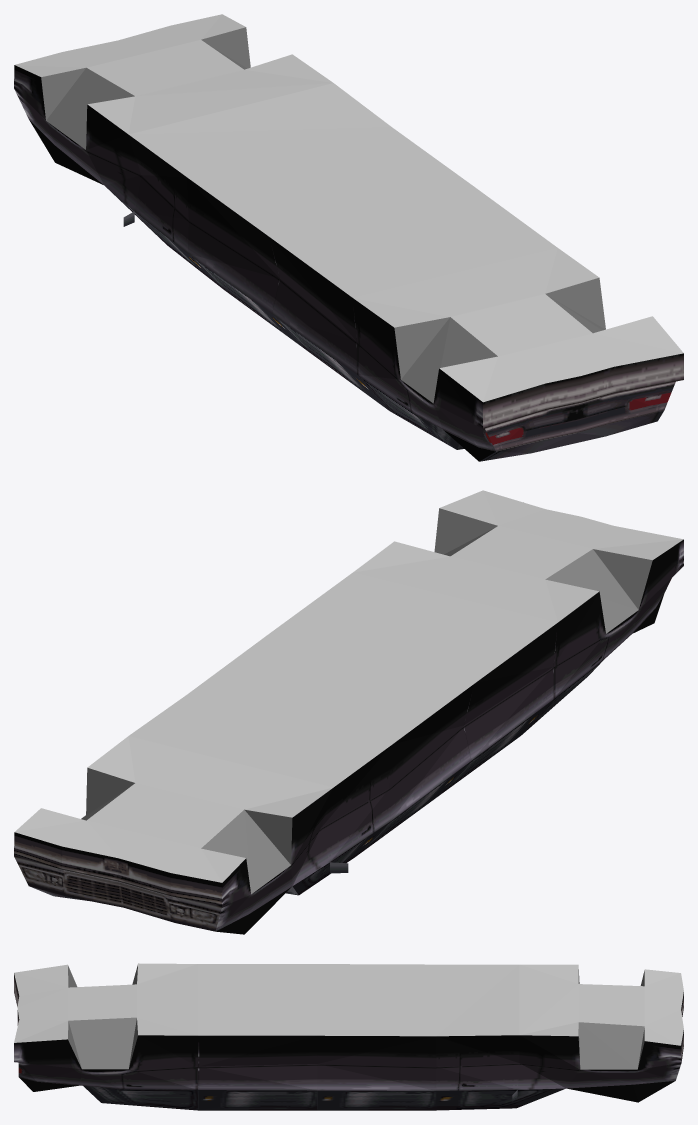
Rendered from RIO_model11_damaged.obj.
3 renders of one model, top to bottom at view 1: azimuth 30°, elevation 25°; view 2: azimuth 150°, elevation 25°; view 3: azimuth 270°, elevation 25°, orthographic. The views are drawn at different scales.
Visible parts, largest first — view 1: RIO_model11_damaged; view 2: RIO_model11_damaged; view 3: RIO_model11_damaged.
Part boxes in pixels (x1,y1,x2,y2): RIO_model11_damaged: [14, 14, 683, 461]; RIO_model11_damaged: [14, 490, 683, 934]; RIO_model11_damaged: [14, 963, 683, 1110].
Size of the model in its own units: 318 by 170 by 1144.
